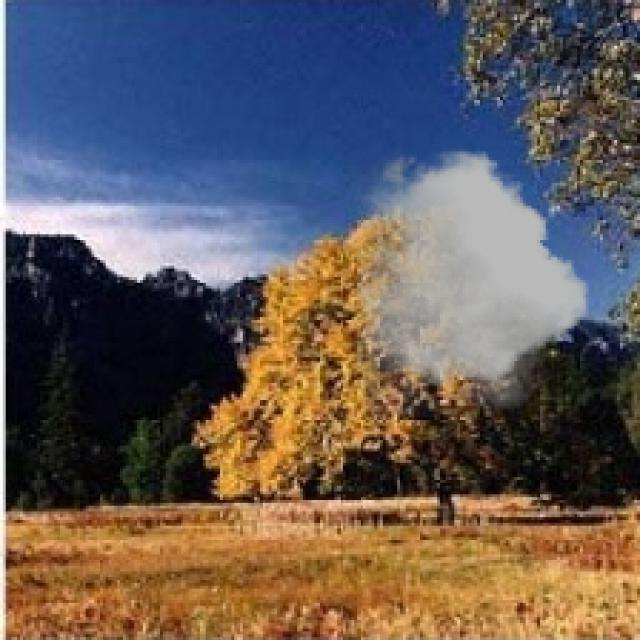Smoke: (357, 146, 589, 417)
